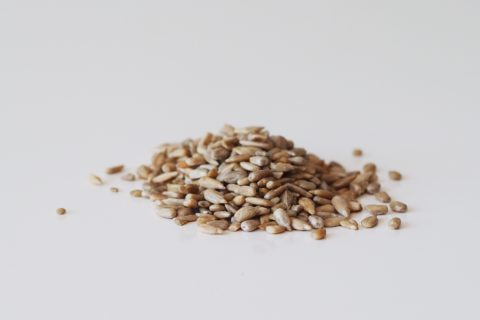seed: (114, 120, 395, 242)
